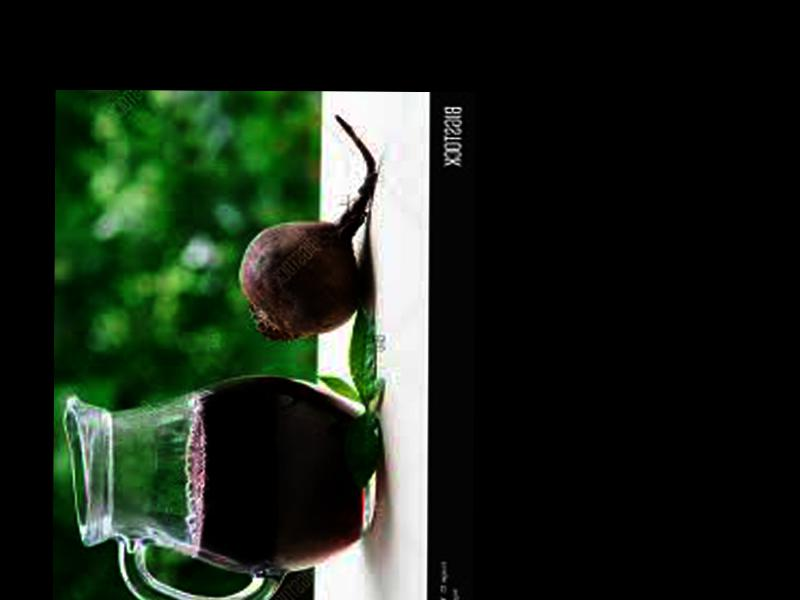Beet: (240, 117, 378, 339)
